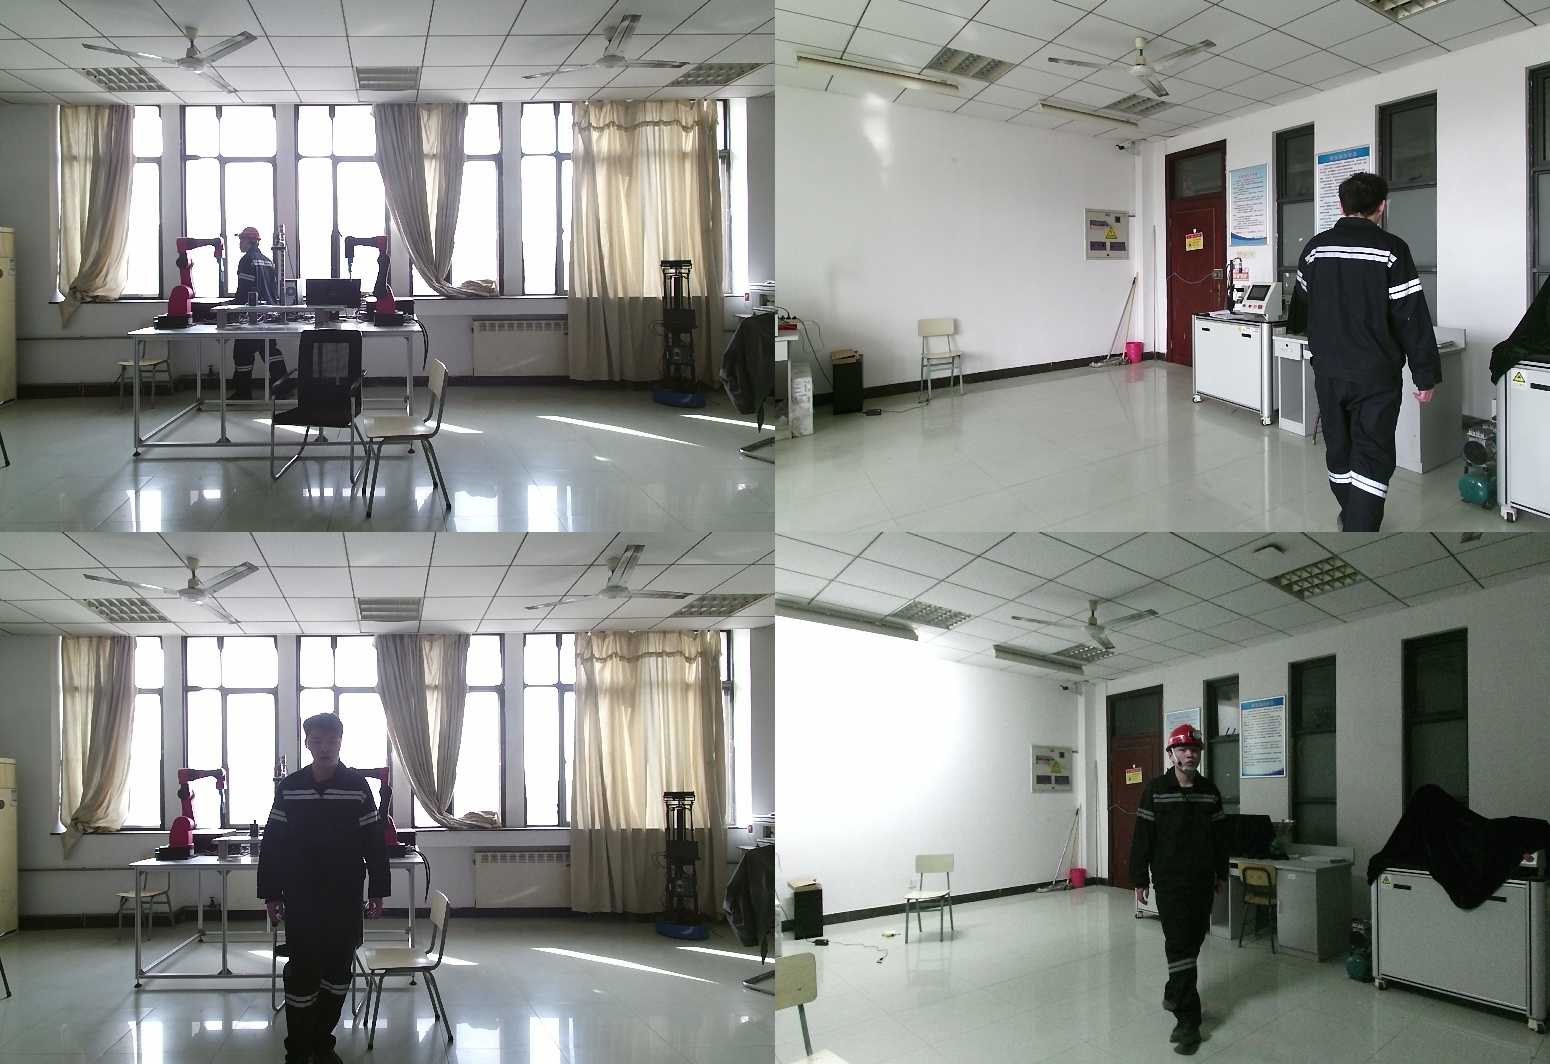person: (1296, 173, 1462, 532), (262, 712, 399, 1064), (1126, 726, 1238, 1021), (227, 226, 294, 402)
